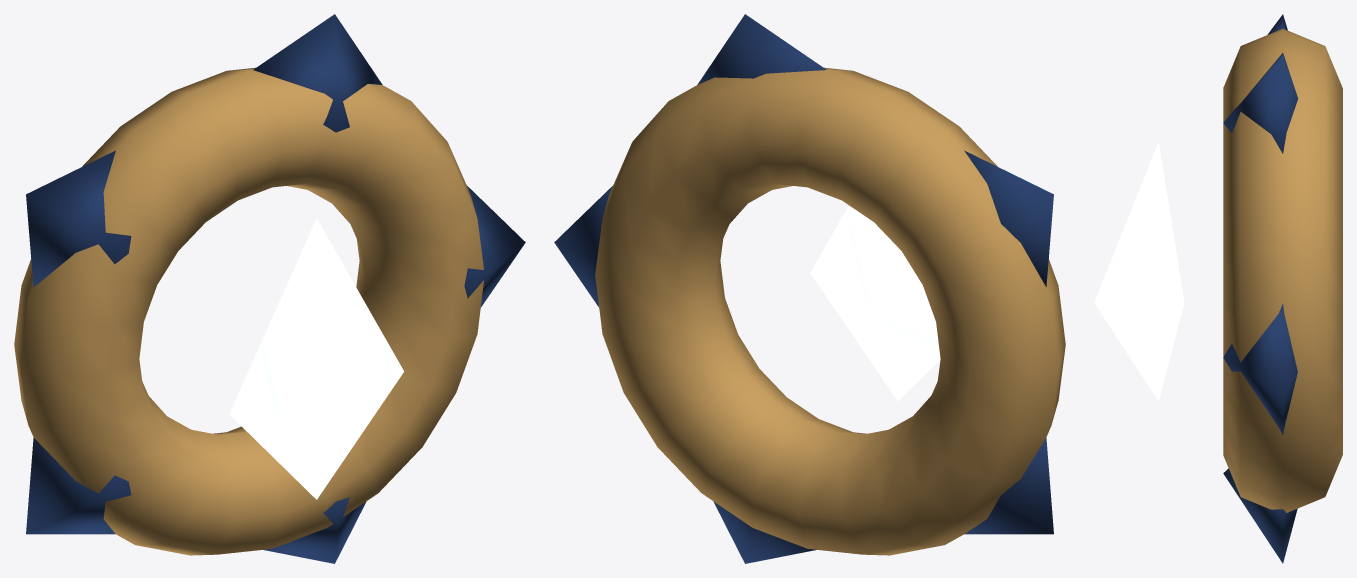
The model's file is boss_thunder_abbot_accessory_1.glb.
The picture shows the model from 3 angles, left to right: view 1: azimuth 30°, elevation 25°; view 2: azimuth 150°, elevation 25°; view 3: azimuth 270°, elevation 25°; orthographic projection. The views are drawn at different scales.
Parts seen in each view (by area): view 1: Boss_thunder_abbot_1, Boss_thunder_abbot_2, Boss_thunder_abbot_0; view 2: Boss_thunder_abbot_1, Boss_thunder_abbot_0, Boss_thunder_abbot_2; view 3: Boss_thunder_abbot_1, Boss_thunder_abbot_2, Boss_thunder_abbot_0.
Part boxes in pixels (<box>): Boss_thunder_abbot_1: <box>14,67,483,555</box>; Boss_thunder_abbot_2: <box>229,218,403,499</box>; Boss_thunder_abbot_0: <box>26,14,525,563</box>; Boss_thunder_abbot_1: <box>595,67,1065,555</box>; Boss_thunder_abbot_0: <box>554,14,1053,563</box>; Boss_thunder_abbot_2: <box>810,205,940,401</box>; Boss_thunder_abbot_1: <box>1223,28,1342,512</box>; Boss_thunder_abbot_2: <box>1094,142,1184,401</box>; Boss_thunder_abbot_0: <box>1223,14,1298,563</box>.
Size of the model in its own units: 0.117 by 0.1217 by 0.054.
